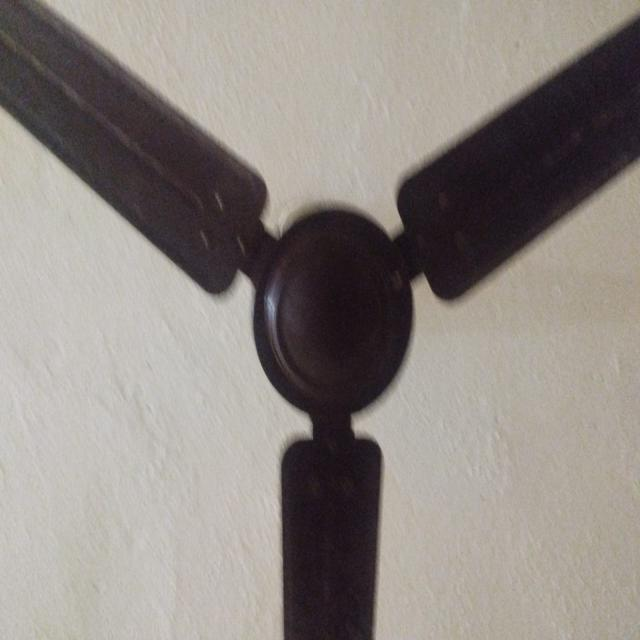fan_off: (4, 3, 640, 640)
